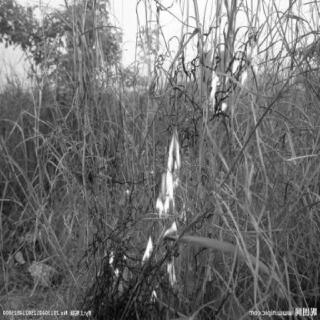Fire: (98, 246, 130, 280)
